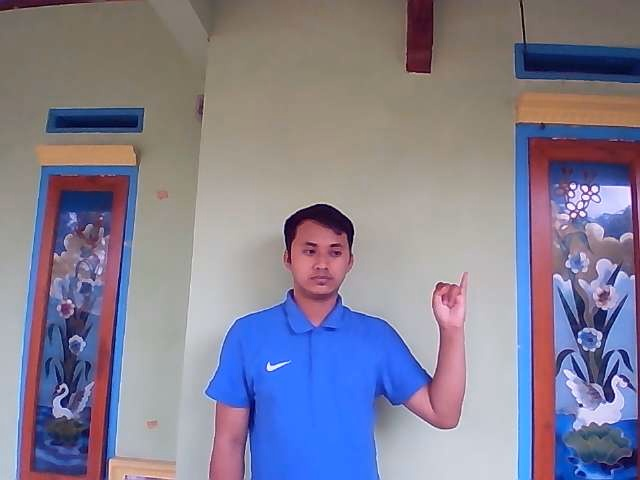I: (430, 270, 470, 329)
